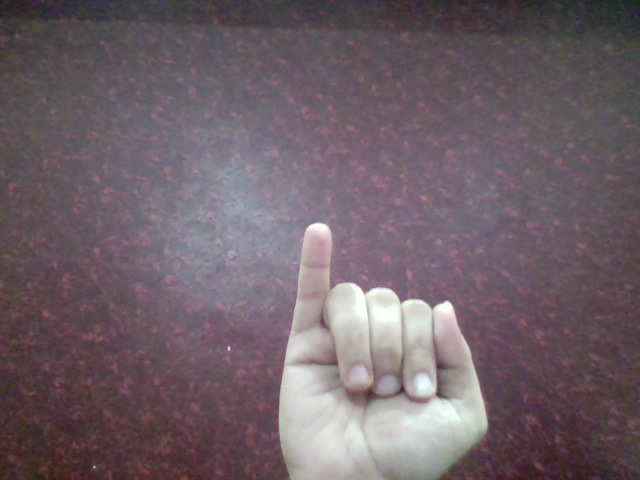i: (258, 217, 494, 480)
